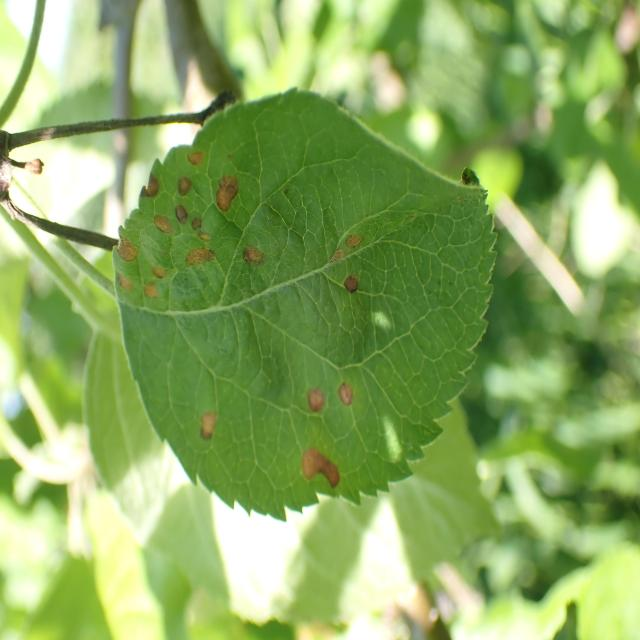frog-eye-leaf-spot: (112, 88, 500, 524)
